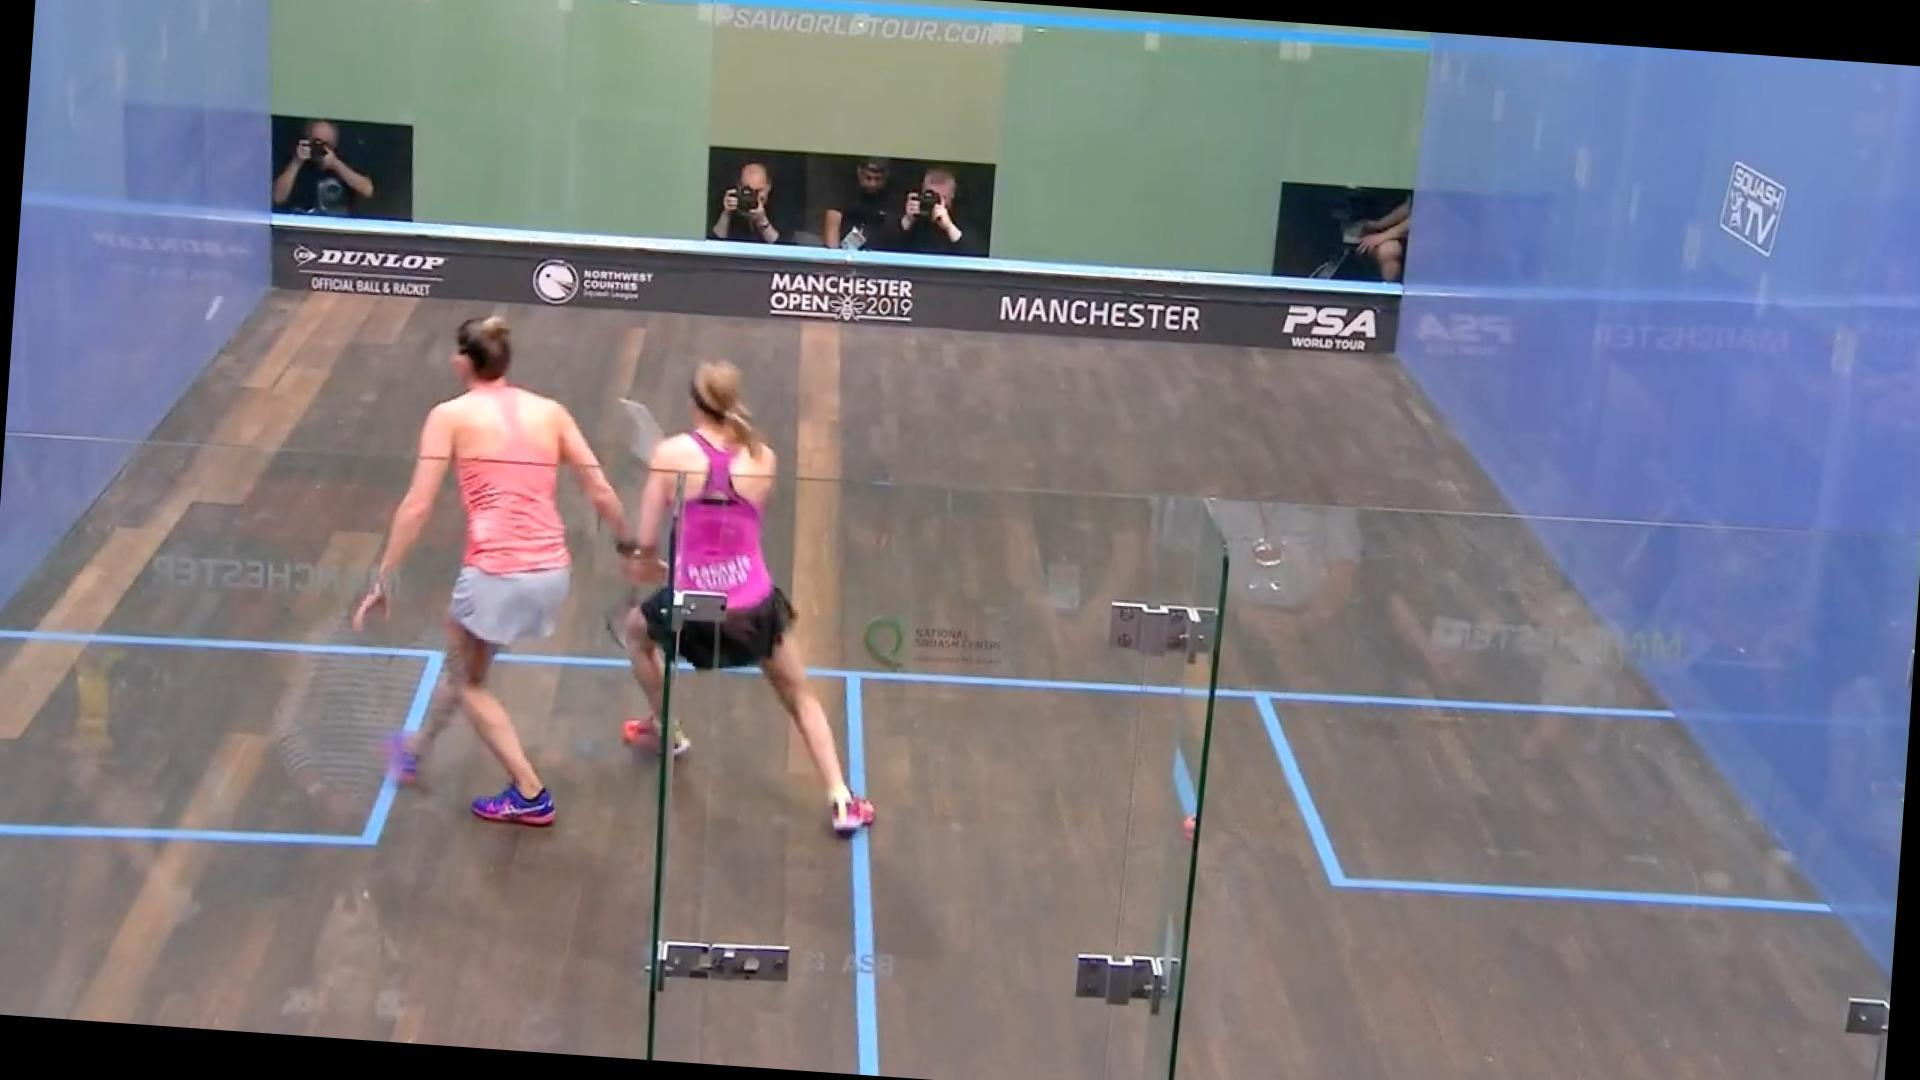Squash-Ball: (187, 276, 240, 339)
